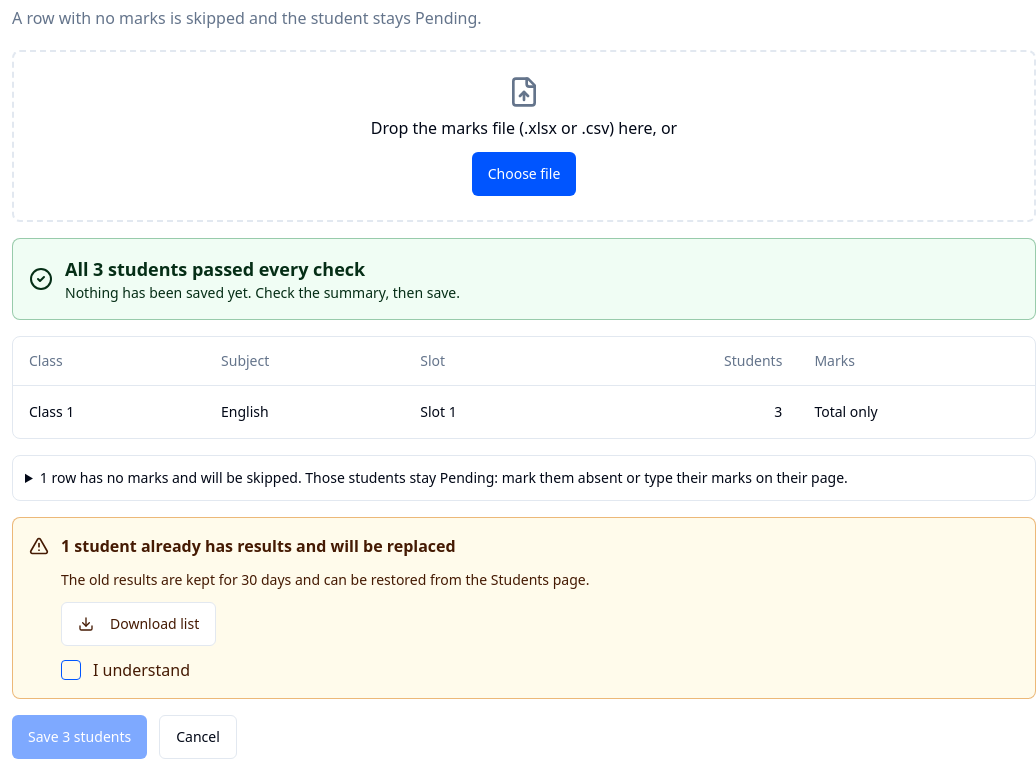
Test: UploadAnswersPage — Manual tab (LKG to Class 2) › lists rows with no marks as skipped, and needs 'I understand' when results are replaced
Earlier steps of the test are not shown.
(page scrolled)
Expected: the heading "1 row has no marks and will be skipped" is shown, [40,468,848,486]
Expected: the text "Total only" is shown, [798,385,1035,438]
Click the checkbox named "I understand" at point(71, 670), box [61,660,81,680]
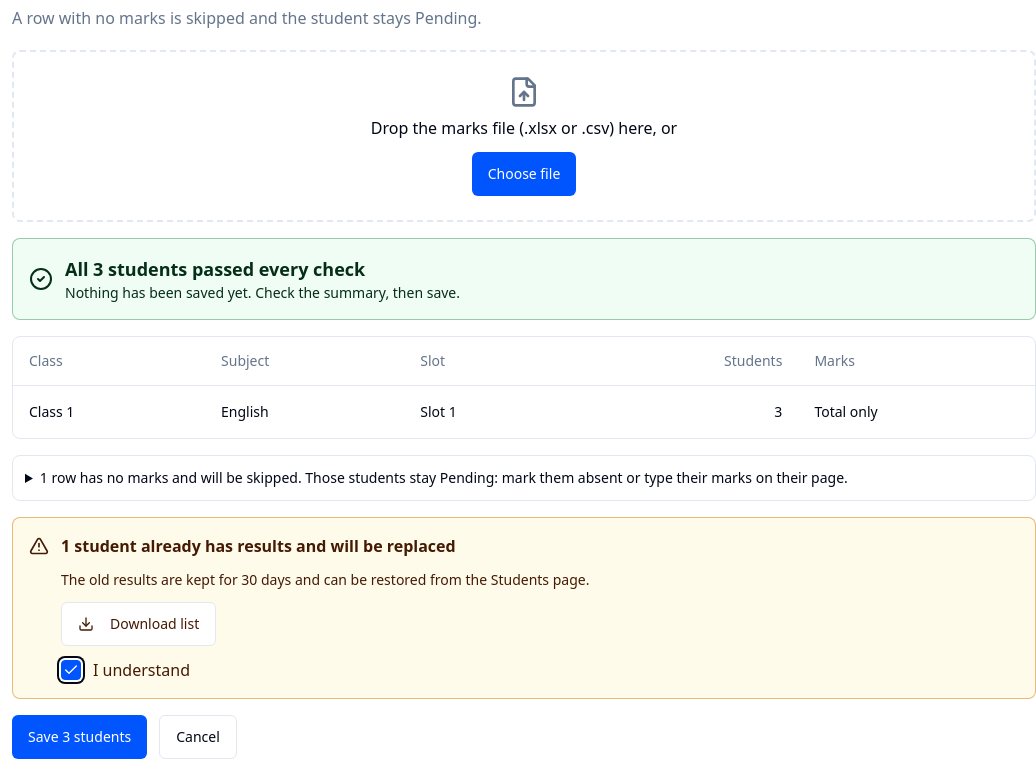
Expected: the button "Save 3 students" is enabled, [12,714,147,758]
